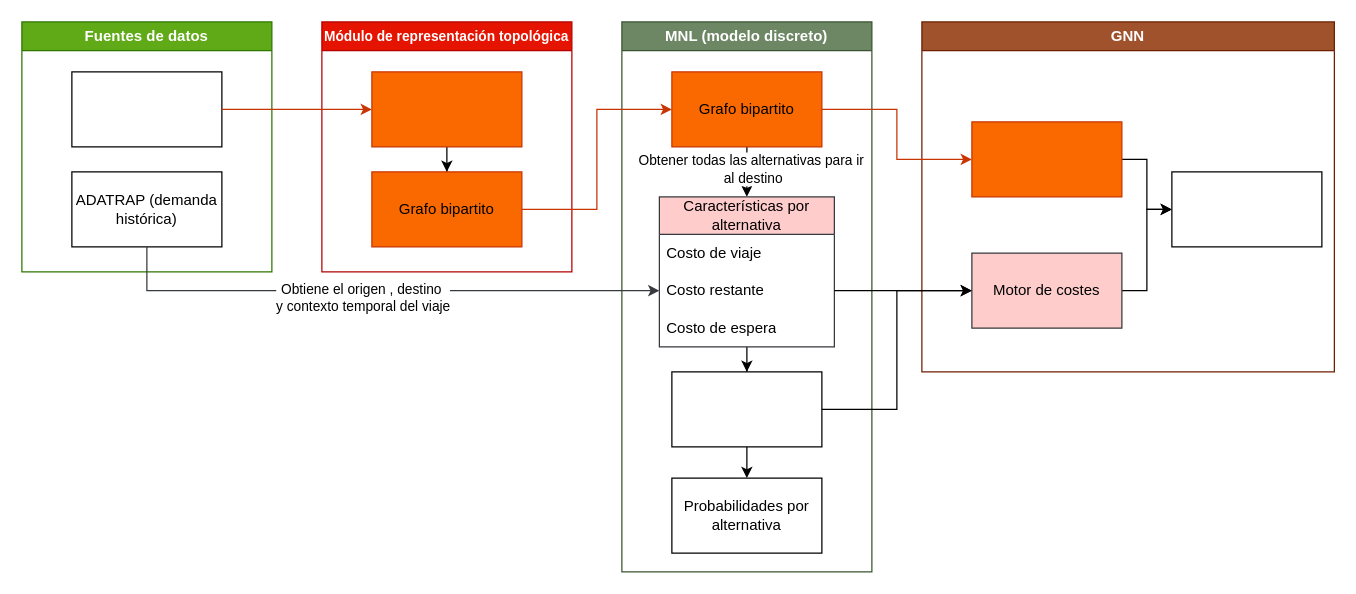
Image size: 1356x594. Some labels were removed from this diagram. The shapes that lost their labels are listed below. From the top down, each one's centre as x and y in pixels, then its label:
point (146, 109): RED (programas de operaciones)
point (446, 109): Grafo agrupado
point (1046, 159): Representación vectorial de los nodos
point (1246, 209): Probabilidades por alternativa (MLP scorer)
point (746, 409): Función de utilidad (betas obtenidos)
